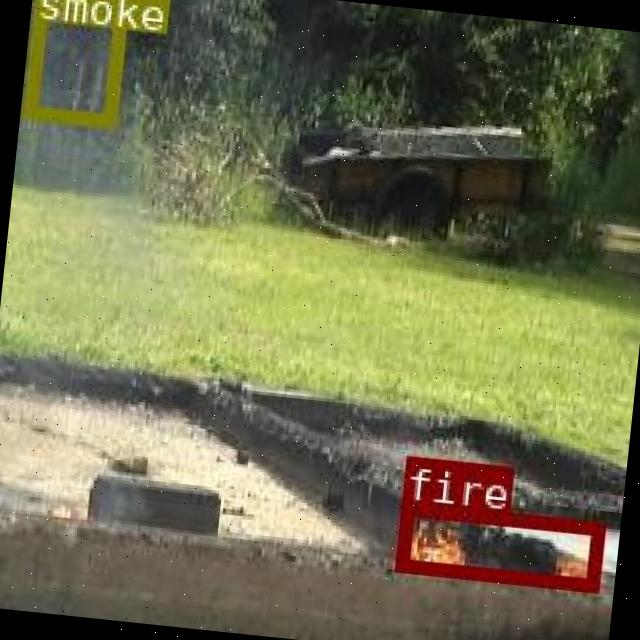fire: (394, 498, 604, 590)
smoke: (21, 0, 127, 123)
